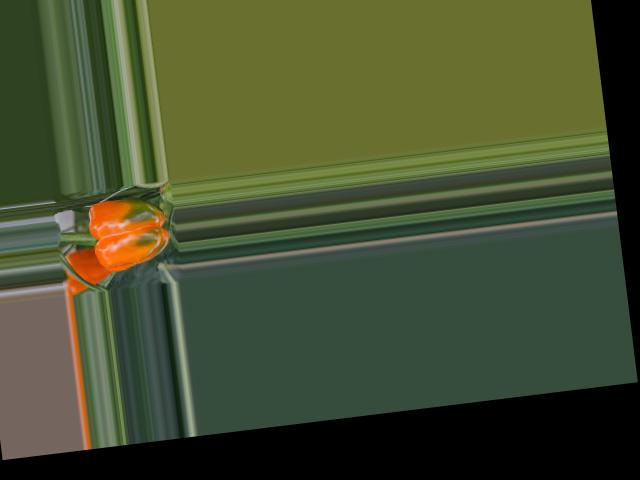bell_pepper: (76, 183, 179, 278)
